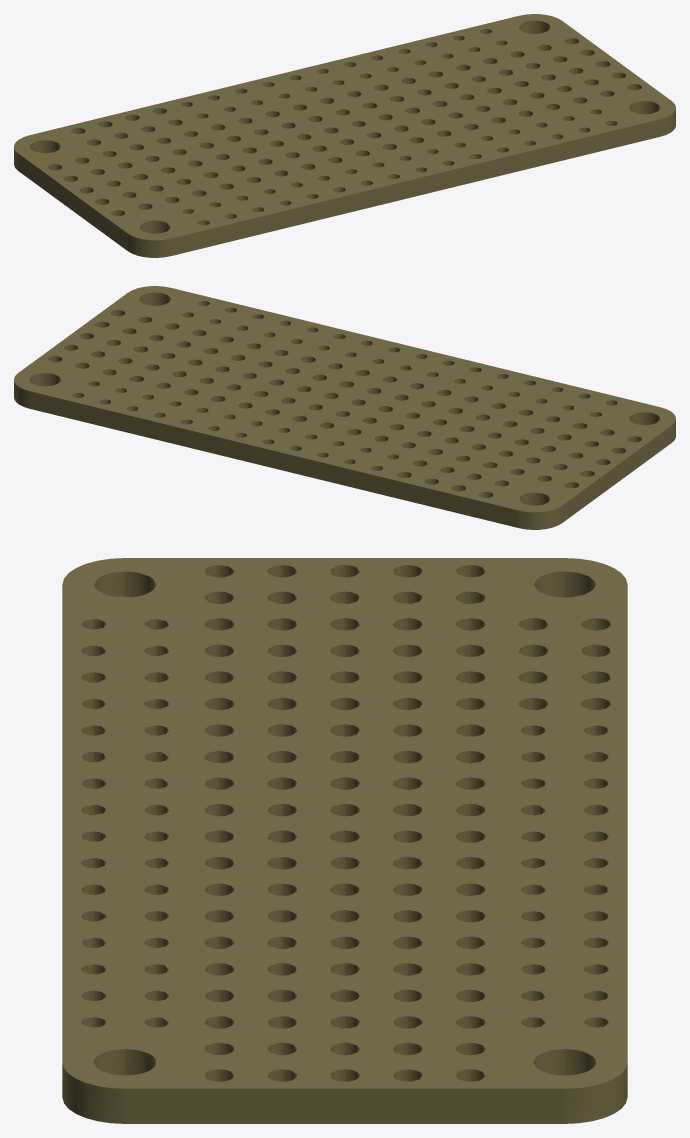
Rendered from ada-2884.glb.
3 views of the same model, one above another, from view 1: azimuth 30°, elevation 25°; view 2: azimuth 150°, elevation 25°; view 3: azimuth 270°, elevation 25° (orthographic). The views are drawn at different scales.
Parts seen in each view (by area): view 1: 0.16666666666666666_0.16666666666666666_0.08333333333333333_; view 2: 0.16666666666666666_0.16666666666666666_0.08333333333333333_; view 3: 0.16666666666666666_0.16666666666666666_0.08333333333333333_.
Part boxes in pixels (<box>): 0.16666666666666666_0.16666666666666666_0.08333333333333333_: <box>14,14,675,257</box>; 0.16666666666666666_0.16666666666666666_0.08333333333333333_: <box>14,286,675,529</box>; 0.16666666666666666_0.16666666666666666_0.08333333333333333_: <box>62,558,627,1123</box>.
Bounding box in the file's own units: 5.08 × 0.1569 × 2.29.
